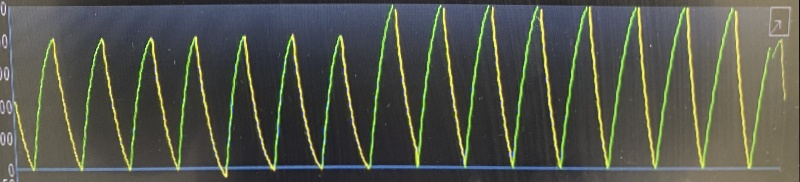normal_volume: (25, 3, 757, 175)
